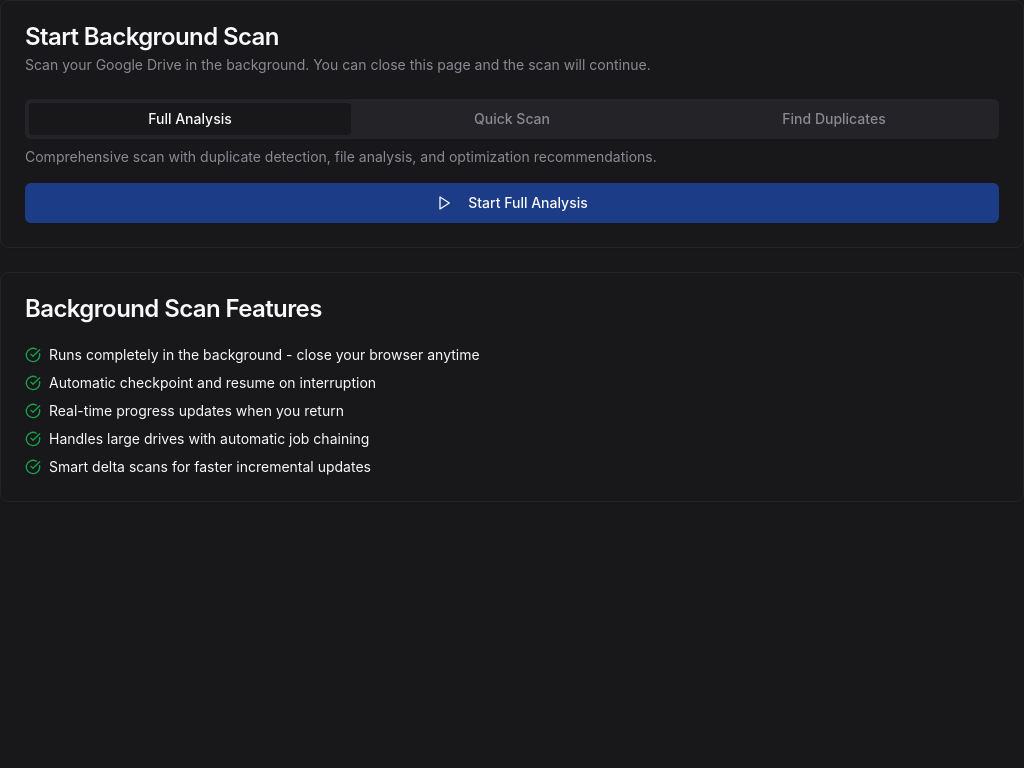
Test case: ScanManager › handles scan start error
Click the button "Start Full Analysis" at (512, 203), box [25, 183, 999, 223]
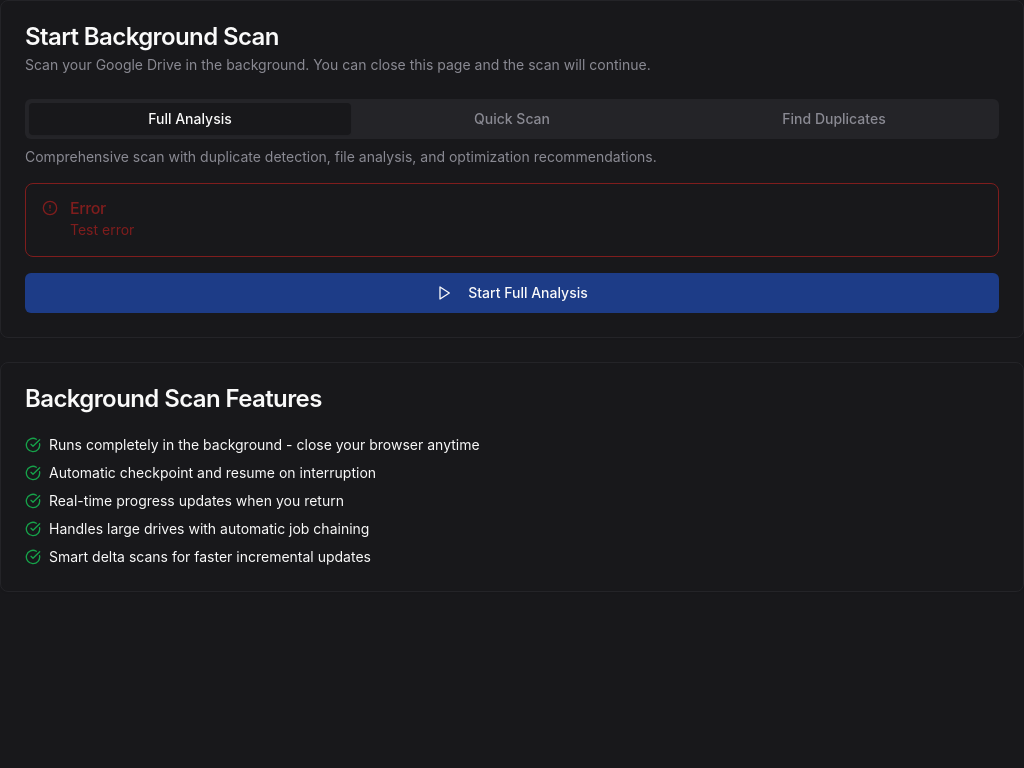
expect the text "Test error" is shown: met, box [70, 221, 134, 238]
